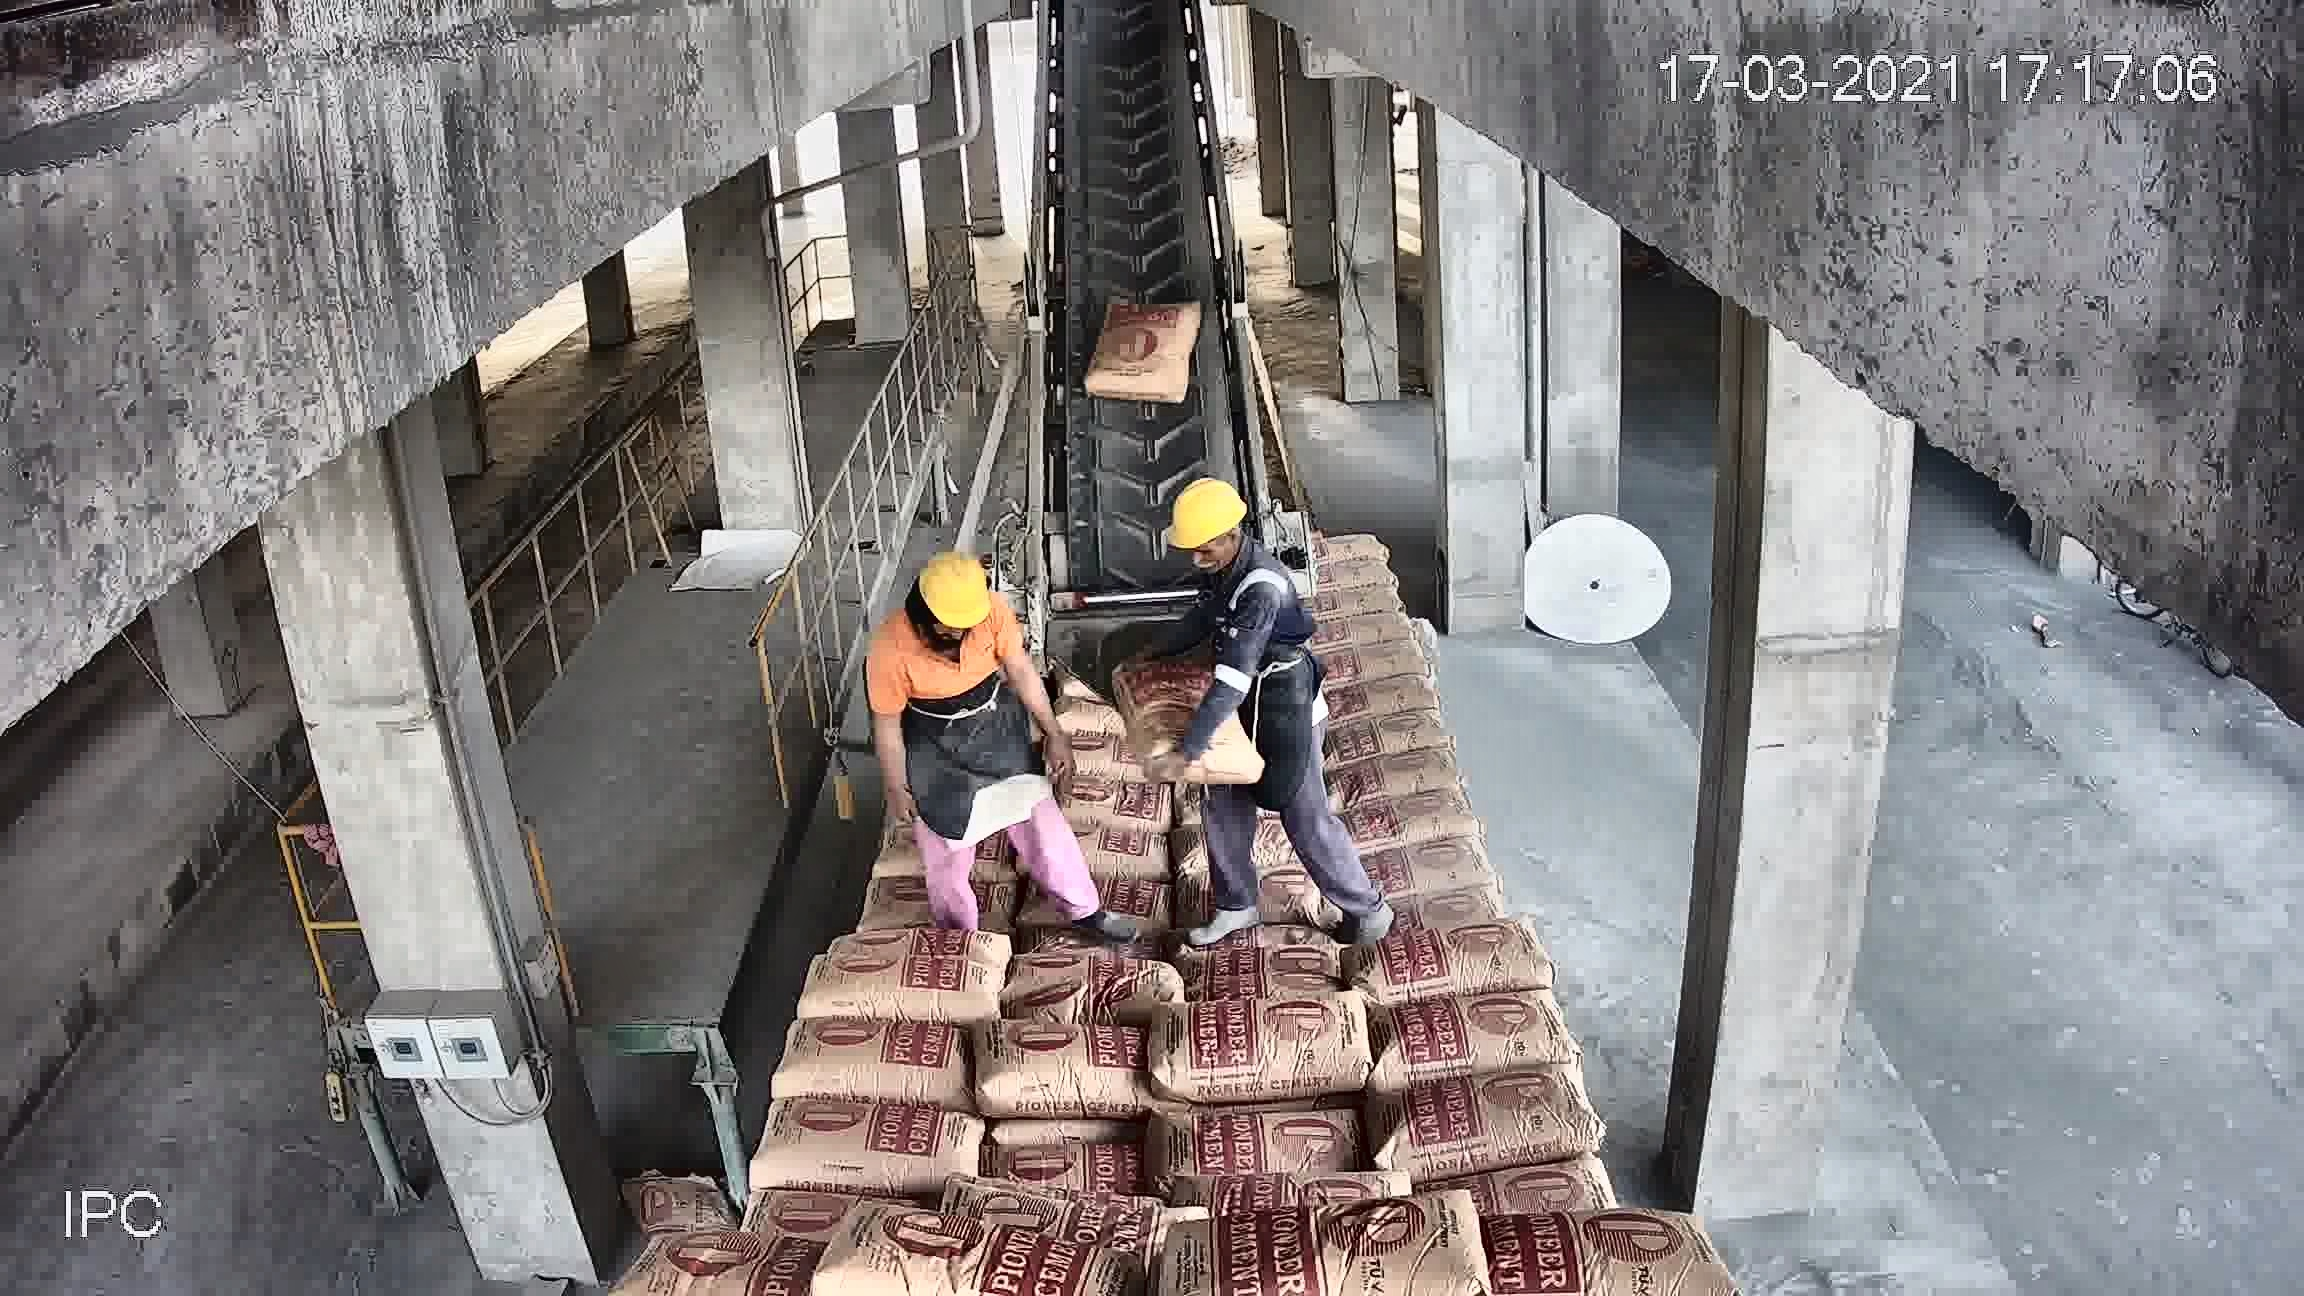bag: (1087, 296, 1195, 400)
bag_h: (1196, 1204, 1529, 1296), (812, 1207, 1124, 1296), (1161, 994, 1388, 1109), (1361, 1068, 1608, 1171), (1366, 983, 1570, 1100), (756, 1100, 983, 1198), (1347, 916, 1552, 1021), (1457, 1204, 1704, 1291), (1139, 1097, 1374, 1187), (767, 1014, 984, 1100), (1416, 1133, 1611, 1228), (975, 1022, 1149, 1124), (804, 949, 997, 1027), (641, 1226, 839, 1296), (999, 946, 1173, 1017), (1366, 828, 1502, 911), (1177, 926, 1348, 991), (980, 1143, 1161, 1199), (1372, 878, 1522, 942), (1353, 790, 1473, 866), (1339, 739, 1461, 810), (828, 919, 1014, 965), (1059, 764, 1171, 839), (1329, 707, 1445, 764), (1323, 676, 1442, 722), (1317, 635, 1426, 680)
bag_v: (1116, 652, 1256, 790)
belt: (1014, 6, 1263, 641)
